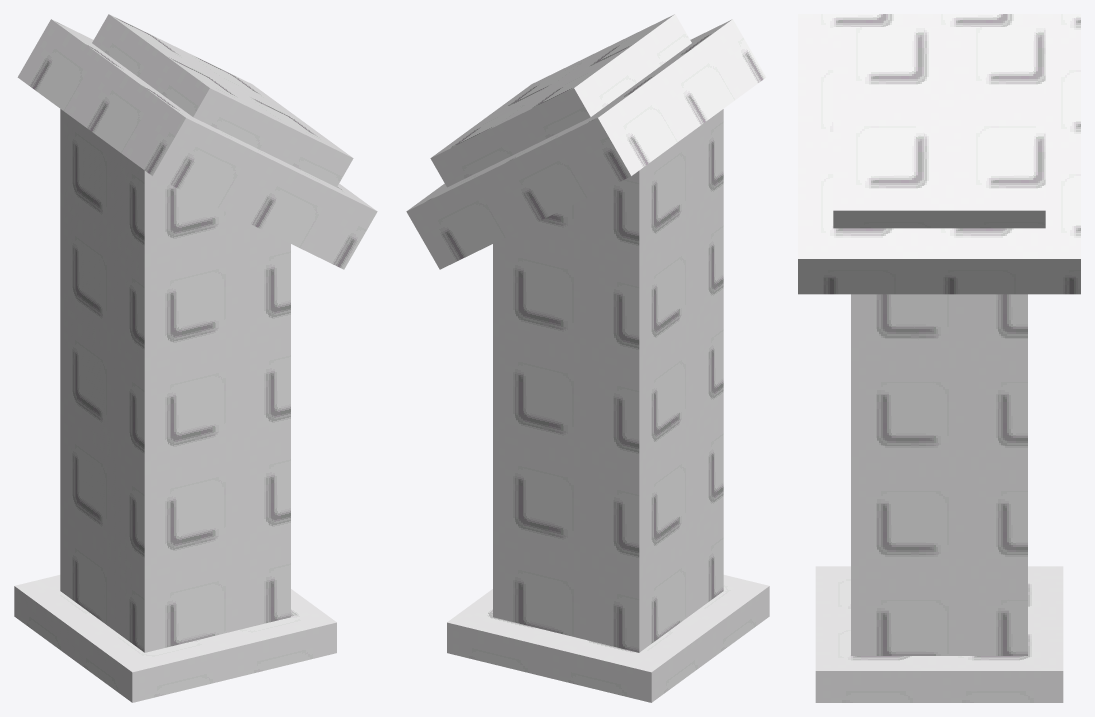
Rendered from FriendPanel.obj.
The picture shows the model from 3 angles, left to right: view 1: azimuth 30°, elevation 25°; view 2: azimuth 150°, elevation 25°; view 3: azimuth 270°, elevation 25°; orthographic projection. The views are drawn at different scales.
Visible parts, largest first — view 1: Part2, Part1, Part3, Main1; view 2: Part2, Part1, Part3, Main1; view 3: Part2, Main1, Part1, Part3.
Part boxes in pixels (<box>): Part2: <box>60,109,290,652</box>; Part1: <box>17,19,377,269</box>; Part3: <box>14,575,336,702</box>; Main1: <box>92,14,353,187</box>; Part2: <box>493,109,723,652</box>; Part1: <box>406,19,766,269</box>; Part3: <box>447,575,769,702</box>; Main1: <box>430,14,691,187</box>; Part2: <box>851,294,1027,655</box>; Main1: <box>833,27,1045,228</box>; Part1: <box>798,14,1080,294</box>; Part3: <box>815,566,1063,702</box>.
Bounding box in the file's own units: 2.02 × 4.8 × 2.
4 materials, 4 textured.
